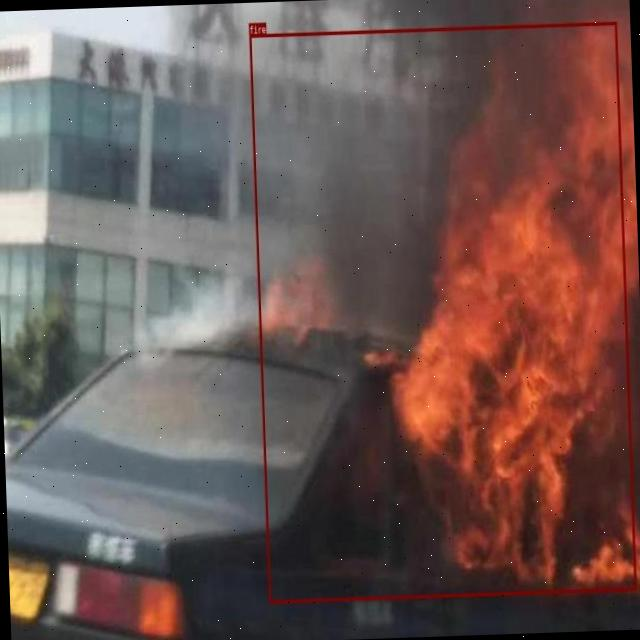fire: (249, 21, 637, 602)
